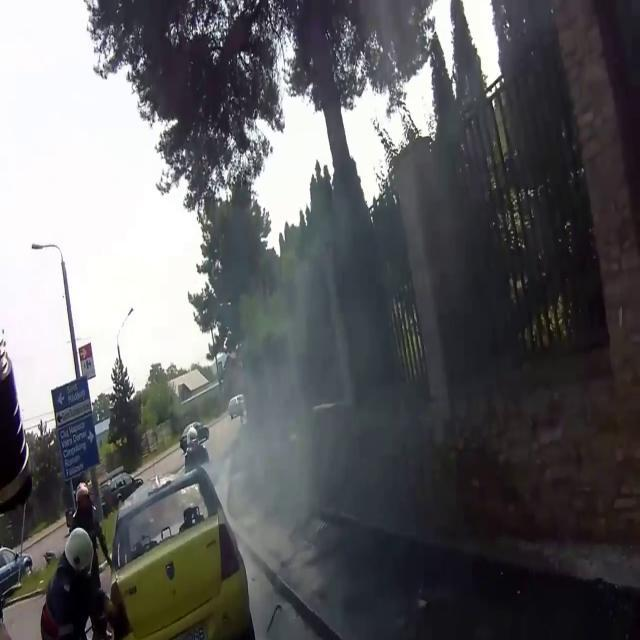Smoke: (205, 171, 478, 585)
